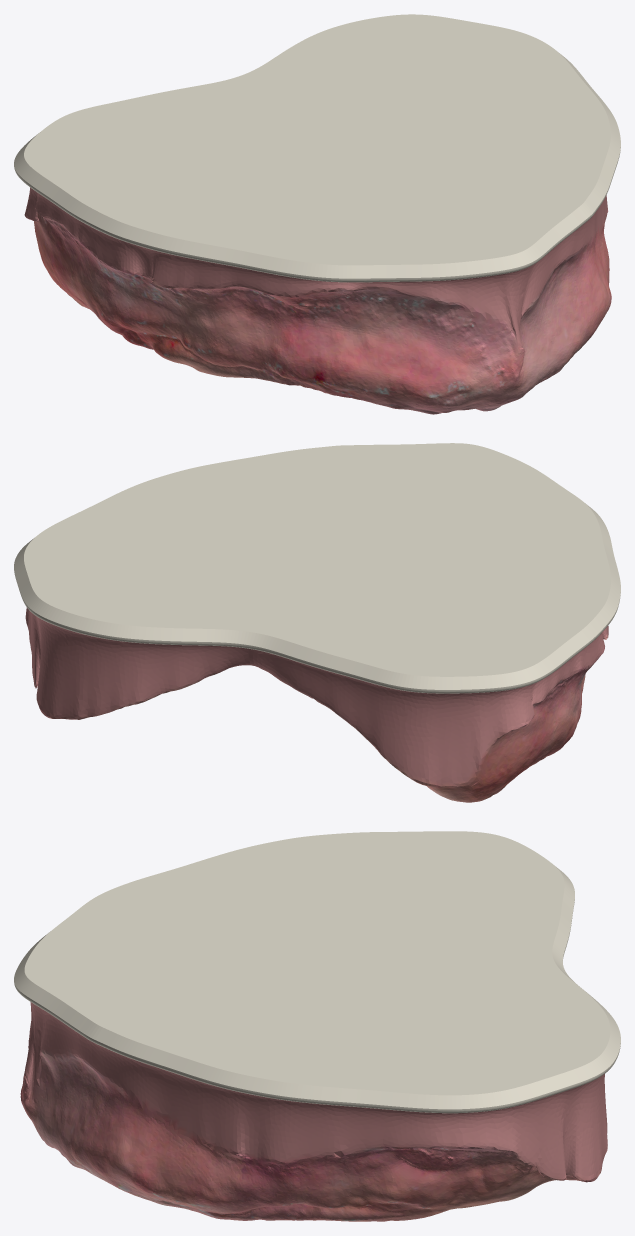
Rendered from upper-1.glb.
3 renders of one model, top to bottom at view 1: azimuth 30°, elevation 25°; view 2: azimuth 150°, elevation 25°; view 3: azimuth 270°, elevation 25°, orthographic. The views are drawn at different scales.
Visible parts, largest first — view 1: 1.ply; view 2: 1.ply; view 3: 1.ply.
Part boxes in pixels (x1=…): 1.ply: x1=14, y1=14, x2=620, y2=414; 1.ply: x1=14, y1=443, x2=620, y2=802; 1.ply: x1=14, y1=831, x2=620, y2=1221.
Size of the model in its own units: 61.37 by 19.05 by 57.65.
